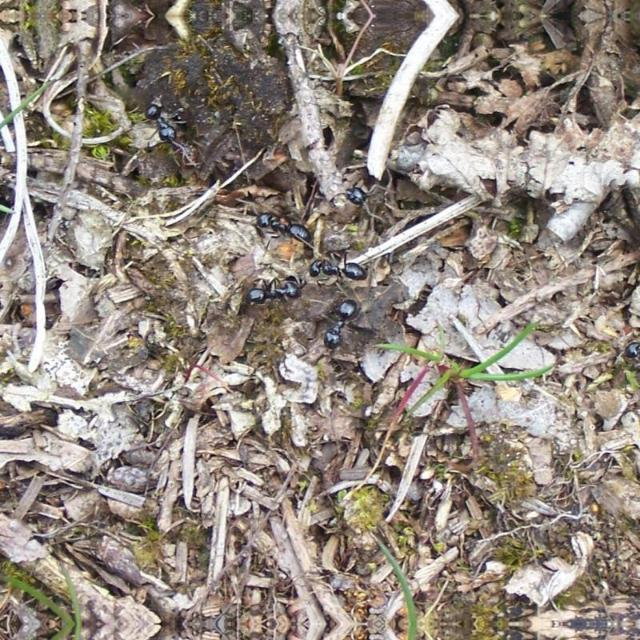Lasius: (251, 207, 325, 250), (315, 294, 373, 346), (242, 266, 302, 312), (306, 247, 366, 286), (330, 171, 376, 211), (147, 104, 179, 148)
